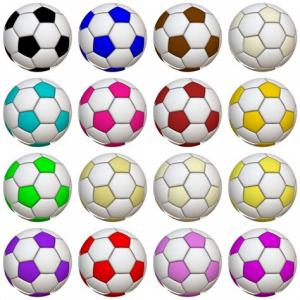Football: (76, 76, 152, 149), (77, 151, 149, 223), (154, 225, 224, 297), (152, 1, 222, 73), (78, 229, 149, 299), (228, 76, 297, 148), (4, 226, 70, 300), (154, 76, 223, 146), (228, 152, 297, 222), (4, 0, 72, 70), (3, 77, 70, 148), (153, 153, 222, 221), (228, 3, 297, 71), (229, 228, 296, 298), (78, 3, 144, 71), (4, 155, 70, 223)
